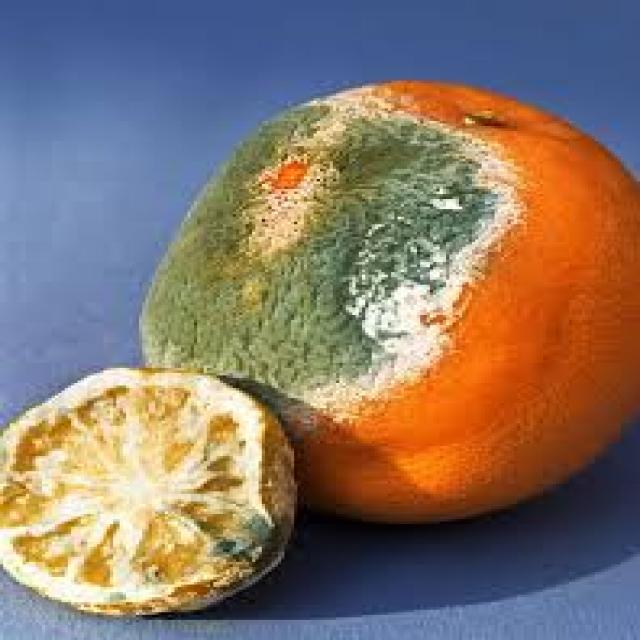organic waste: (136, 76, 637, 522), (0, 363, 294, 615)
